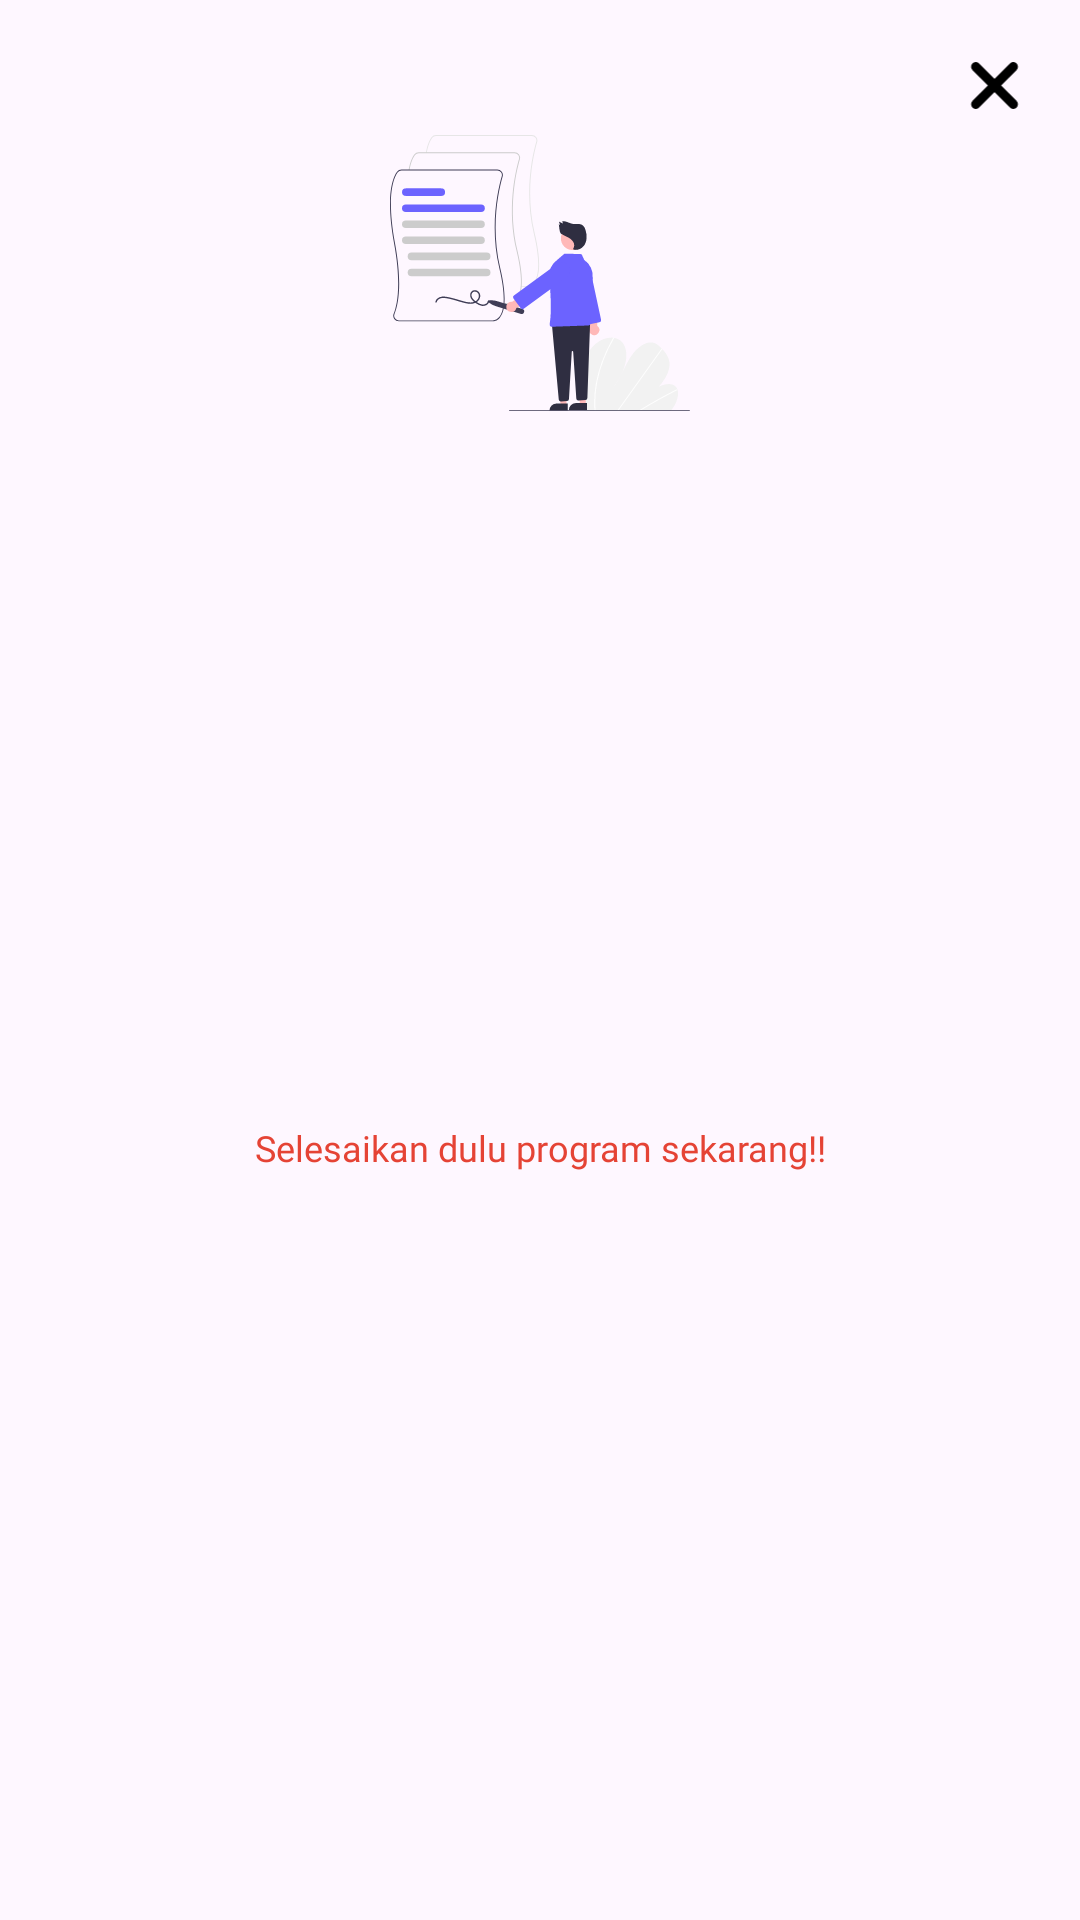

Icon click points for this 1080x1920 phone screenshot, format point (x, y):
selesaikan program: point (540, 273)
xmark: point (994, 85)
